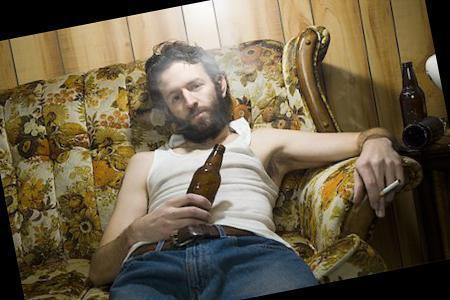Drunk: (158, 67, 221, 127)
